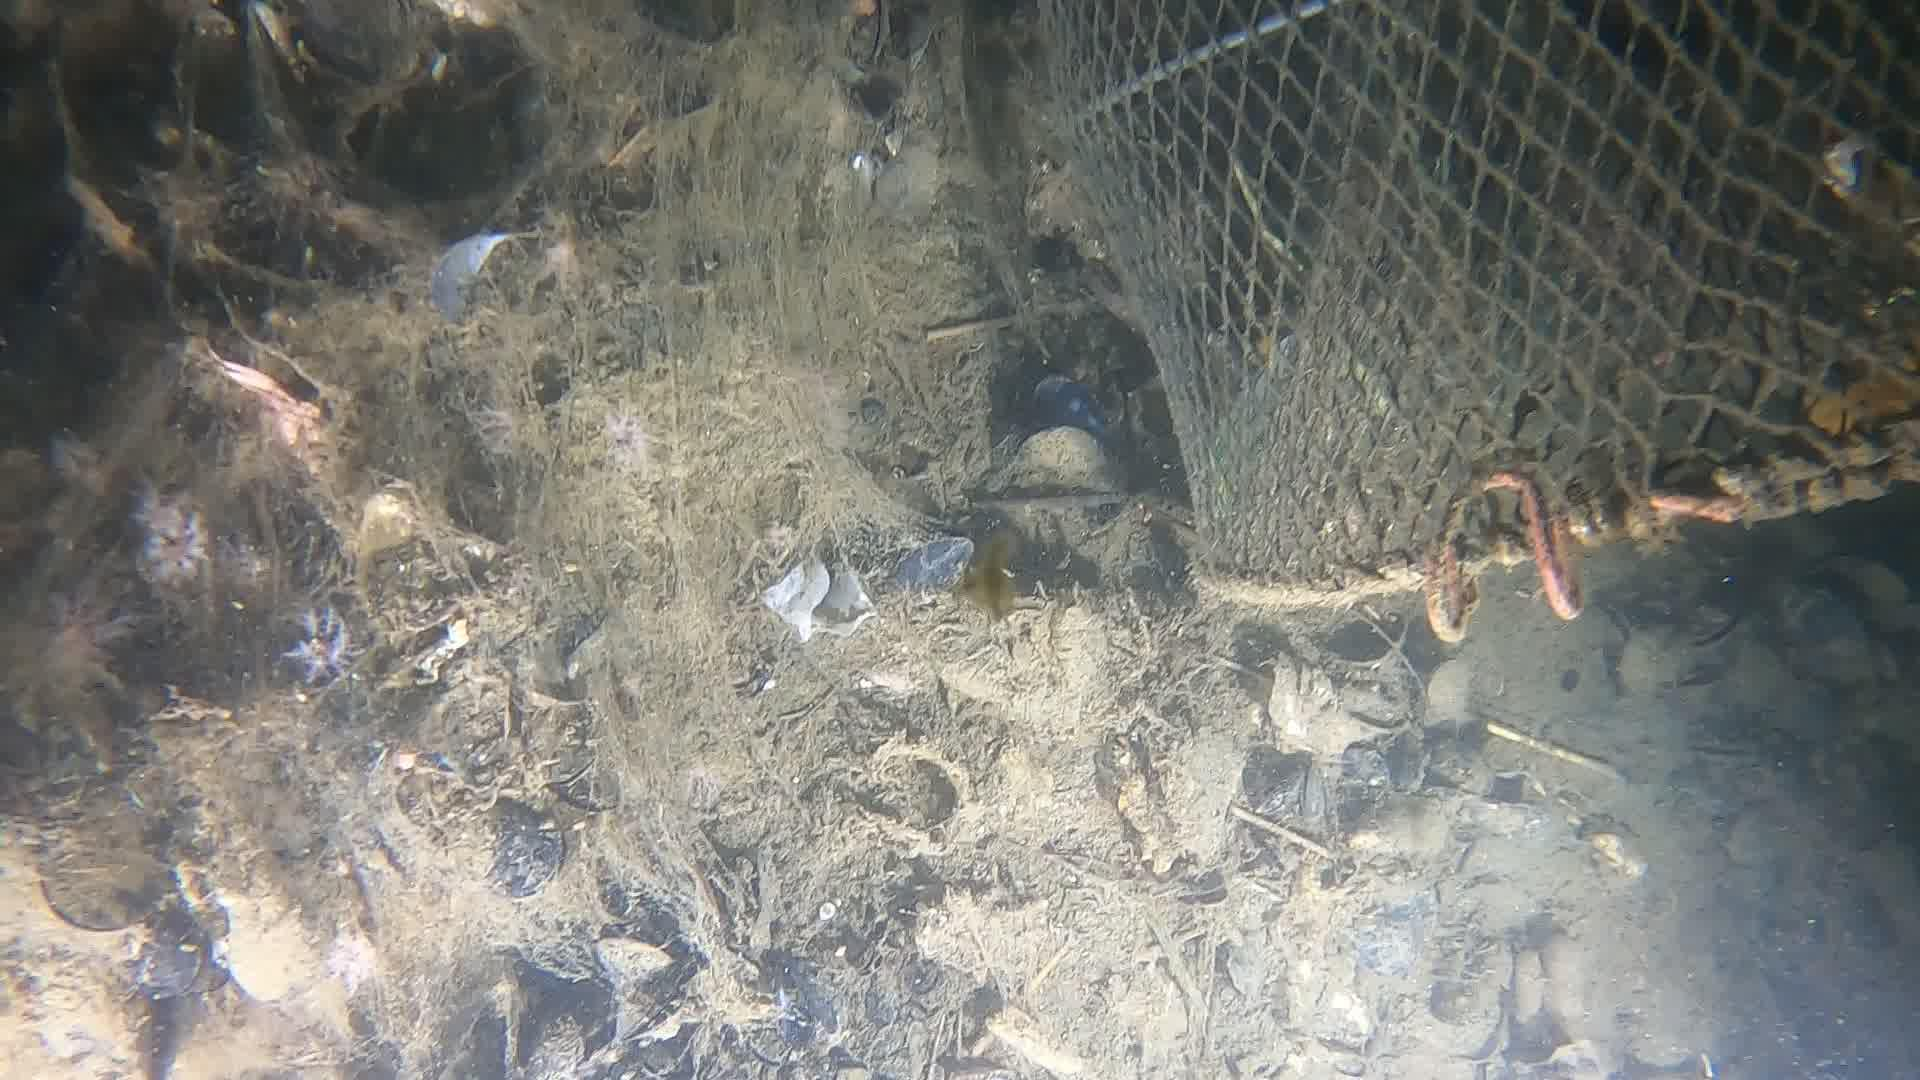spring fish trap: (1043, 0, 1920, 597)
